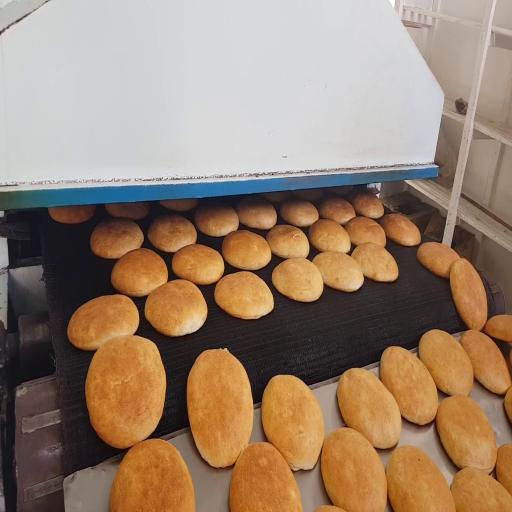bread: (85, 336, 166, 448), (187, 349, 253, 467), (110, 439, 195, 511), (262, 375, 324, 470), (321, 428, 386, 511), (337, 368, 401, 448), (230, 443, 302, 511), (436, 397, 497, 473), (386, 446, 455, 511), (381, 347, 438, 425), (67, 295, 139, 350), (419, 330, 473, 396), (145, 280, 207, 336), (461, 330, 511, 394), (111, 248, 168, 296), (215, 272, 273, 319), (450, 259, 487, 330), (451, 468, 511, 511), (272, 258, 323, 301), (90, 219, 143, 259), (172, 244, 224, 284), (313, 252, 363, 292), (222, 230, 271, 270), (148, 214, 197, 252), (352, 242, 398, 282), (417, 242, 459, 278), (266, 225, 309, 258), (195, 204, 238, 237), (309, 220, 350, 253), (236, 197, 277, 229), (381, 214, 421, 246), (345, 217, 386, 247), (280, 200, 318, 227), (319, 198, 355, 225), (48, 205, 96, 224), (351, 191, 383, 219), (496, 444, 512, 495), (105, 202, 149, 220), (484, 314, 511, 343), (160, 199, 198, 212), (292, 189, 323, 201), (262, 192, 290, 202), (328, 185, 353, 196), (504, 388, 511, 423), (315, 505, 344, 511)
